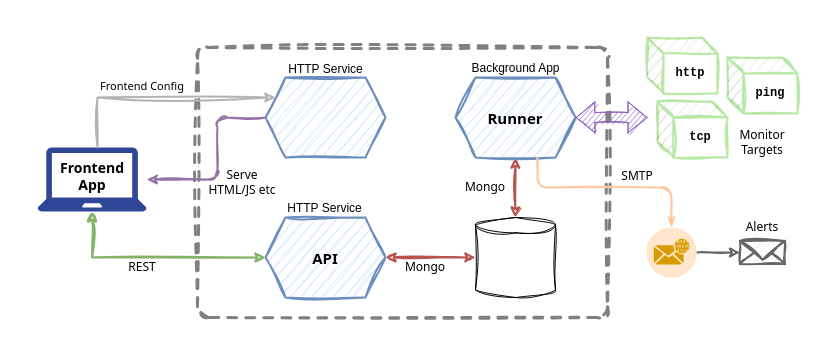
This 834x357 diagram has some shape labels left out. Each missing label, with the centre of its shape:
"Email Server" goes at pixel 671 252.
"Frontend Host" goes at pixel 325 117.
"MongoDB" goes at pixel 515 257.
